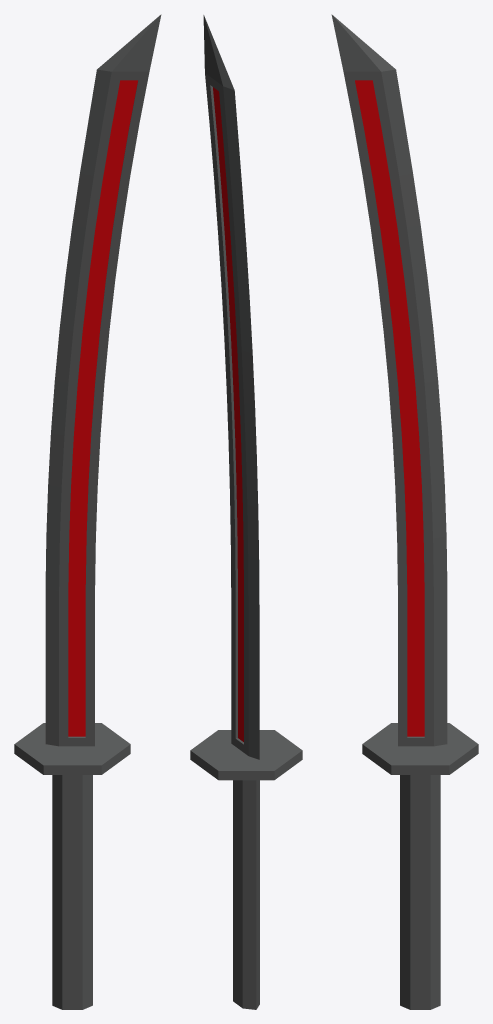
The model's file is katana.fbx.
The picture shows the model from 3 angles, left to right: view 1: azimuth 90°, elevation 25°; view 2: azimuth 210°, elevation 25°; view 3: azimuth 270°, elevation 25°; orthographic projection. The views are drawn at different scales.
Parts seen in each view (by area): view 1: Cylinder; view 2: Cylinder; view 3: Cylinder.
Boxes of the visible parts, x1,y1,x2,y2 form: Cylinder: [14, 14, 161, 1009]; Cylinder: [190, 15, 302, 1009]; Cylinder: [331, 14, 478, 1009].
Bounding box in the file's own units: 33.17 × 361 × 48.47.
